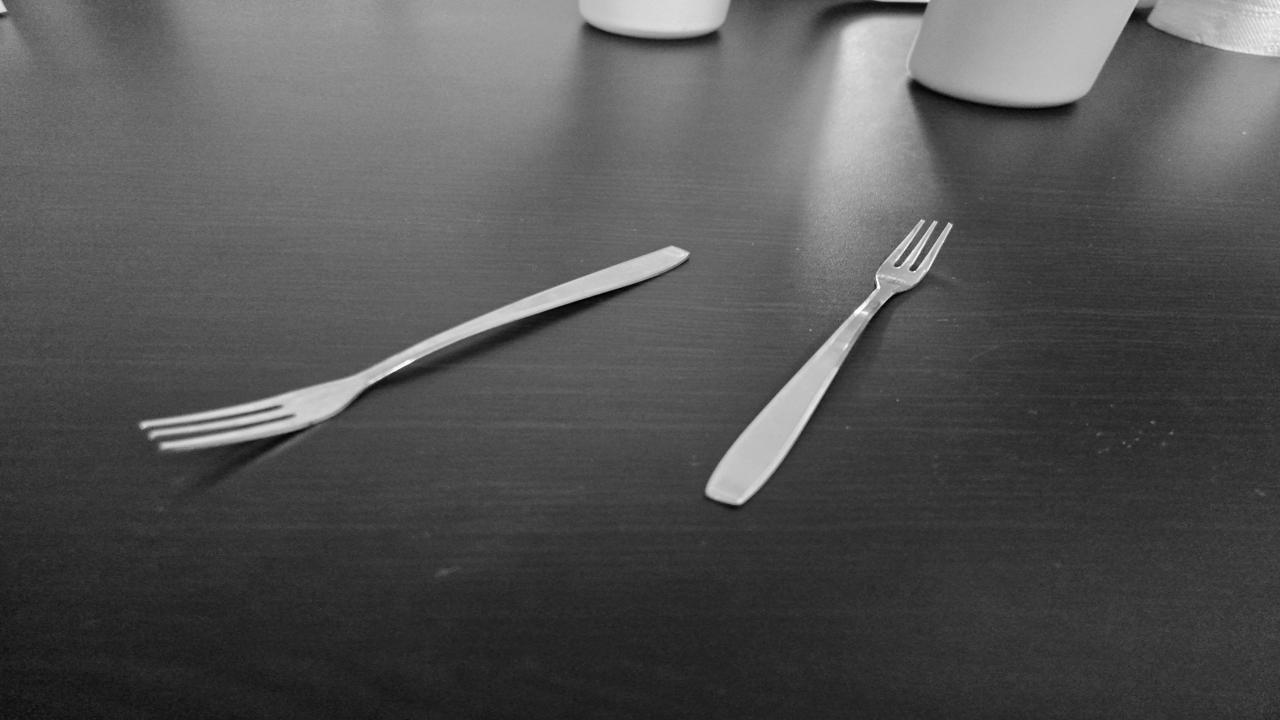fork: (141, 246, 686, 452), (704, 214, 956, 504)
